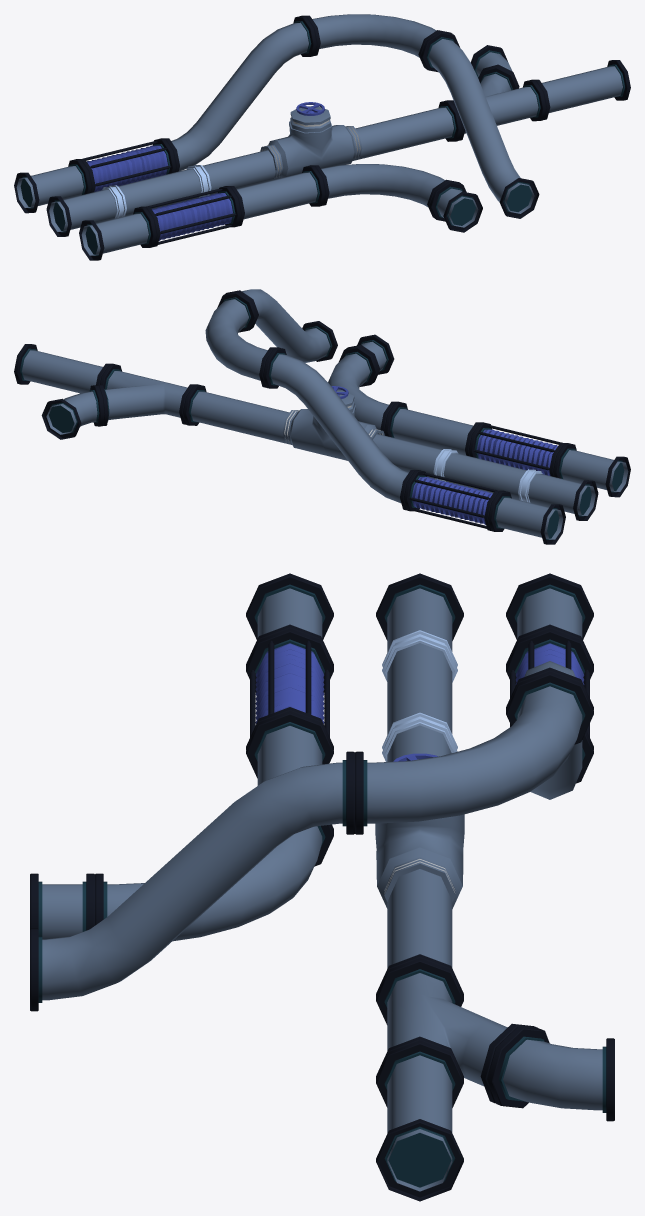
Rendered from PipeComplexSmall_A_14.fbx.
3 renders of one model, top to bottom at view 1: azimuth 30°, elevation 25°; view 2: azimuth 150°, elevation 25°; view 3: azimuth 270°, elevation 25°, orthographic. The views are drawn at different scales.
Visible parts, largest first — view 1: PipeComplexSmall_A_14.001; view 2: PipeComplexSmall_A_14.001; view 3: PipeComplexSmall_A_14.001.
Part boxes in pixels (left/top/right/bottom): PipeComplexSmall_A_14.001: left=14, top=14, right=630, bottom=260; PipeComplexSmall_A_14.001: left=14, top=289, right=630, bottom=544; PipeComplexSmall_A_14.001: left=30, top=573, right=614, bottom=1201.
Size of the model in its own units: 2 by 0.4356 by 0.9.
